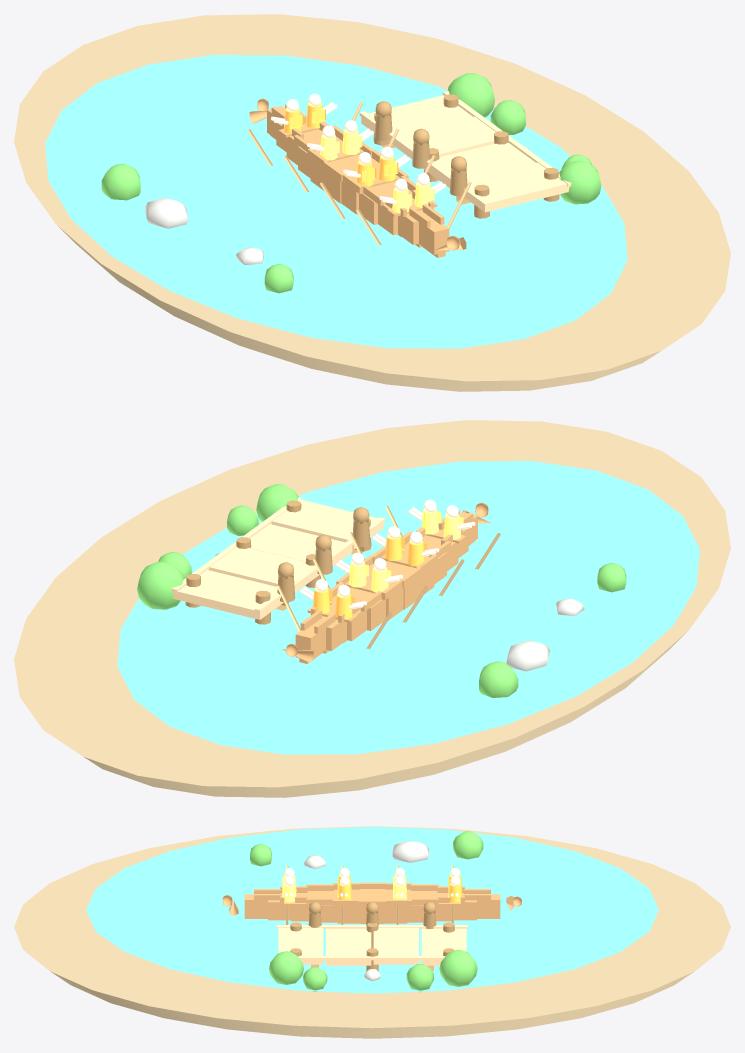
Rendered from 08_canoe.glb.
The picture shows the model from 3 angles, top to bottom: view 1: azimuth 30°, elevation 25°; view 2: azimuth 150°, elevation 25°; view 3: azimuth 270°, elevation 25°; orthographic projection. The views are drawn at different scales.
Parts seen in each view (by area): view 1: water, ground, dock_plank, boat_hull, bush, dock_pile, skin, vest_orange, vest_yellow, rock, paddle; view 2: water, ground, dock_plank, boat_hull, bush, dock_pile, skin, vest_yellow, vest_orange, rock, paddle; view 3: water, ground, boat_hull, dock_plank, bush, dock_pile, rock, skin, vest_orange, vest_yellow.
Boxes of the visible parts, x1,y1,x2,y2 form: water: (45, 55, 627, 348); ground: (14, 14, 730, 391); dock_plank: (359, 91, 571, 212); boat_hull: (249, 98, 466, 257); bush: (101, 73, 601, 293); dock_pile: (373, 94, 559, 218); skin: (271, 93, 446, 204); vest_orange: (283, 102, 398, 186); vest_yellow: (320, 129, 434, 213); rock: (145, 146, 529, 264); paddle: (247, 102, 471, 245); water: (117, 461, 699, 754); ground: (14, 420, 730, 797); dock_plank: (171, 497, 385, 619); boat_hull: (282, 502, 491, 663); bush: (137, 484, 626, 697); dock_pile: (185, 500, 371, 624); skin: (300, 499, 475, 609); vest_yellow: (349, 508, 463, 592); vest_orange: (313, 535, 427, 619); rock: (215, 552, 584, 671); paddle: (276, 505, 500, 649); water: (86, 826, 658, 993); ground: (14, 826, 730, 1038); boat_hull: (222, 882, 521, 923); dock_plank: (277, 925, 467, 965); bush: (250, 831, 483, 992); dock_pile: (290, 901, 454, 971); rock: (304, 840, 428, 981); skin: (284, 868, 460, 896); vest_orange: (337, 875, 462, 902); vest_yellow: (282, 875, 406, 902).
Bounding box in the file's own units: 15 × 2.46 × 22.5.
